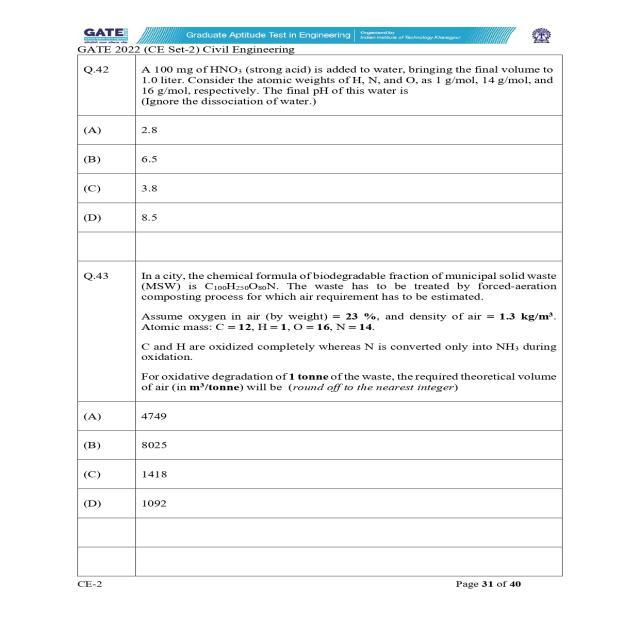Answer_Block: (43, 400, 595, 580), (43, 117, 595, 233)
Question_Answer_Block: (43, 262, 595, 580), (43, 51, 595, 233)
Question_Block: (43, 262, 595, 402), (43, 51, 595, 118)
Question_Paper_Area: (43, 51, 595, 580)
